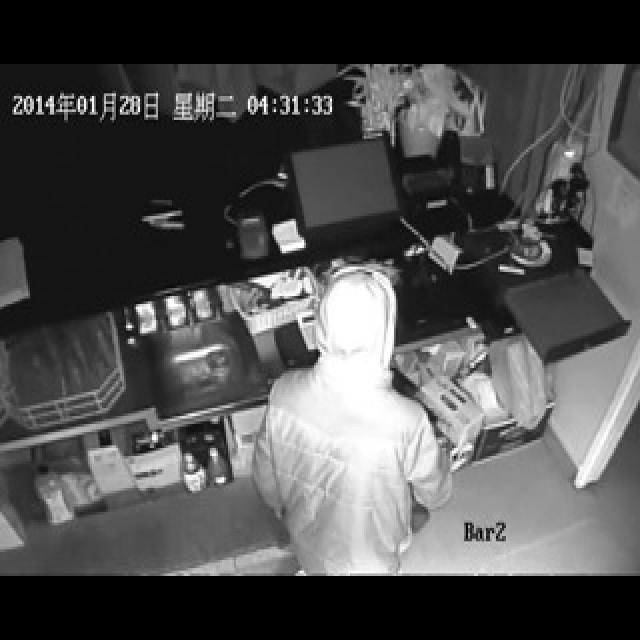thief: (305, 248, 420, 523)
